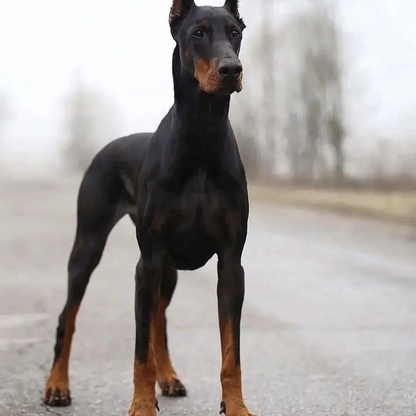doberman: (48, 2, 263, 409)
